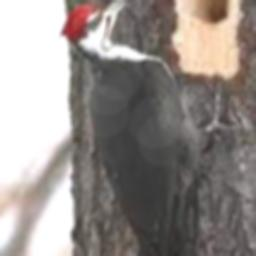Woodpecker: (60, 0, 235, 256)
